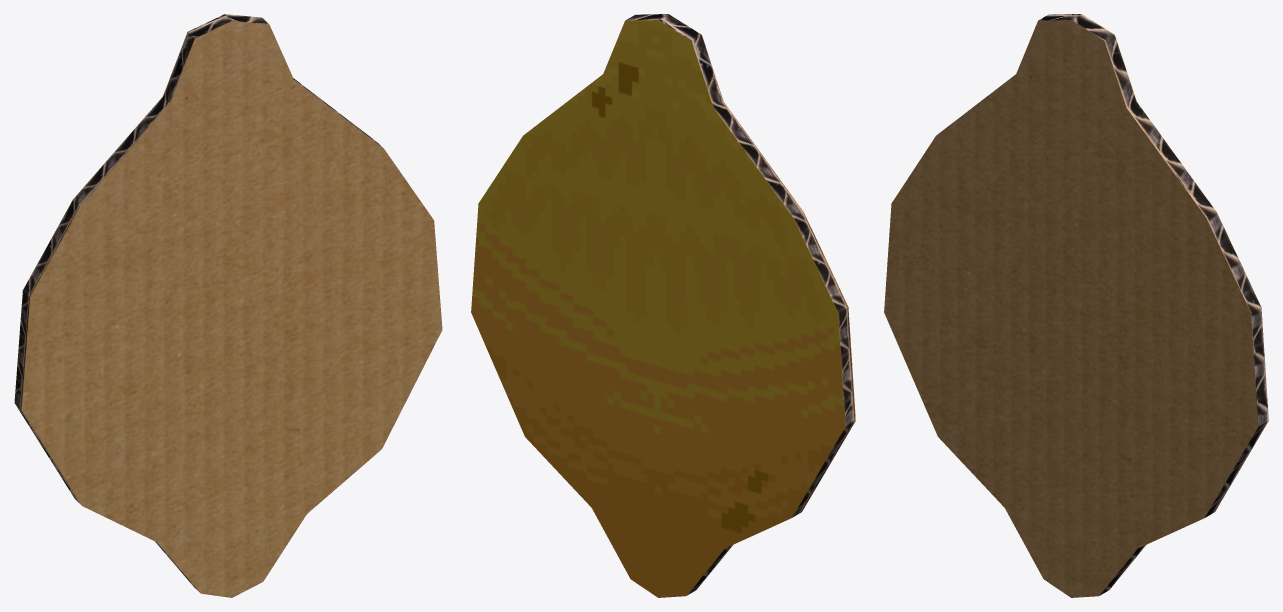
File: LIMON_A.glb
3 renders of one model, left to right at view 1: azimuth 30°, elevation 25°; view 2: azimuth 150°, elevation 25°; view 3: azimuth 330°, elevation 25°, orthographic.
Parts seen in each view (by area): view 1: LIMON; view 2: LIMON; view 3: LIMON.
Boxes of the visible parts, box(x1,y1,x2,y2) form: LIMON: box(14, 14, 442, 597); LIMON: box(471, 14, 855, 597); LIMON: box(884, 14, 1268, 597).
Bounding box in the file's own units: 1.56 × 2.15 × 0.2173.
Materials: 1 (1 with a texture image).
